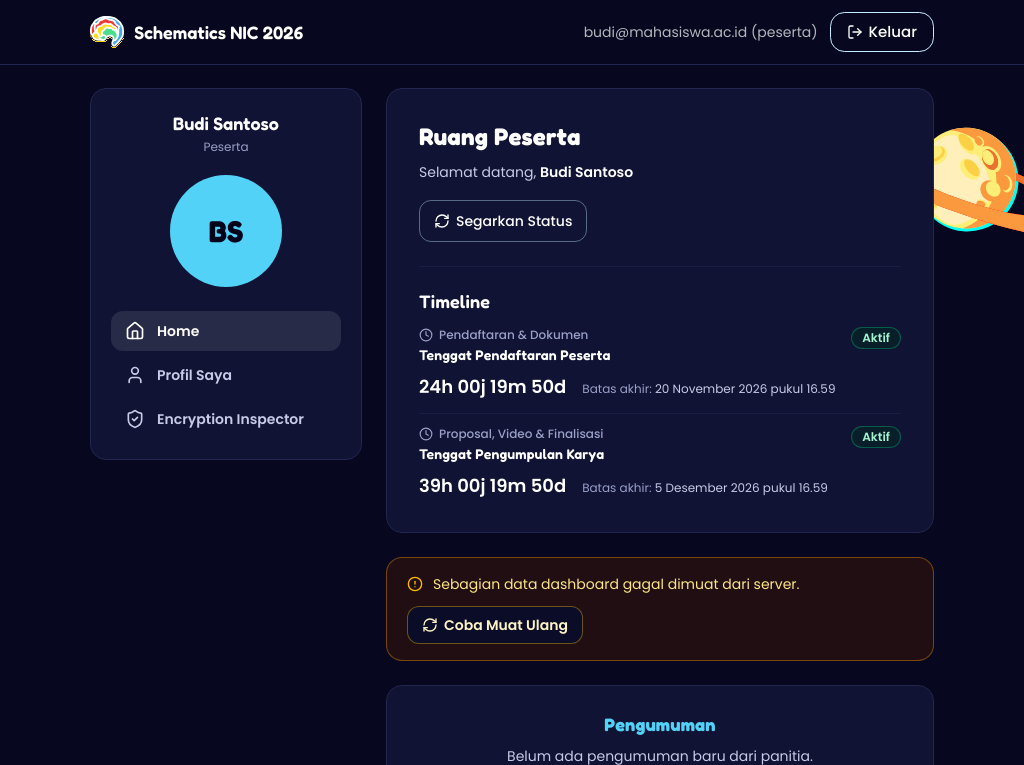
Test: ParticipantDashboardPage › surfaces error banner when a dashboard endpoint fails and recovers on retry
Click the button "Coba Muat Ulang": (495,625) [407,606,583,644]
(page scrolled)
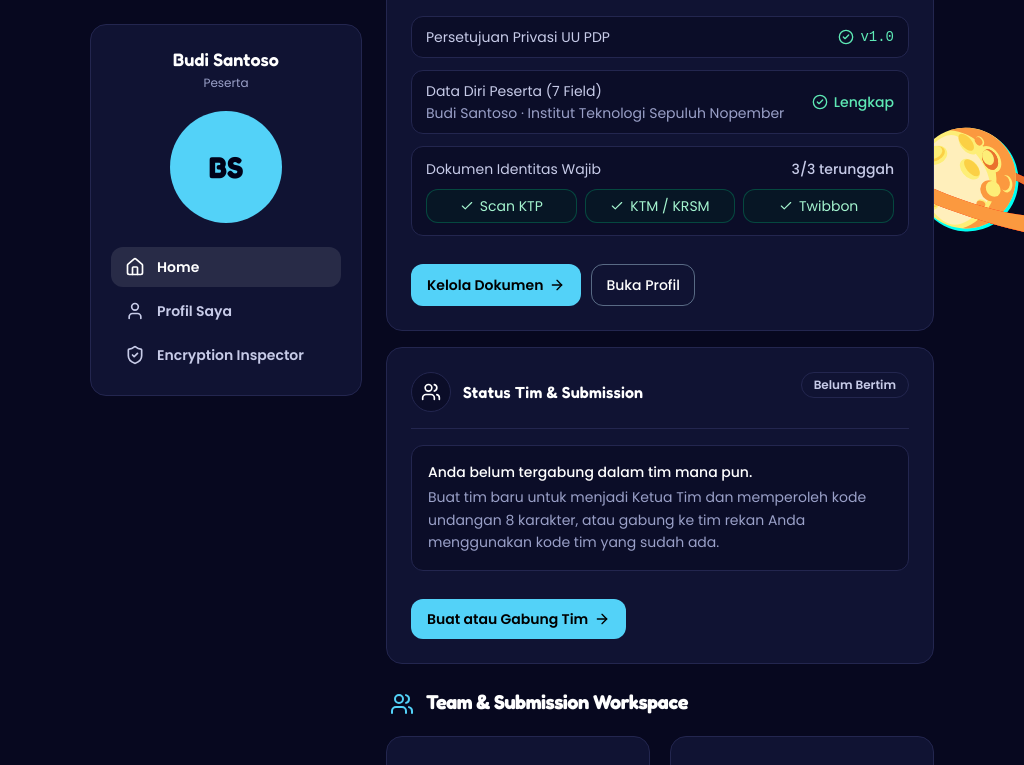
Expected: the text with test id "team-status-badge" reads "Belum Bertim", [814,376,896,393]
Now the message with test id "dashboard-error-alert" is gone
